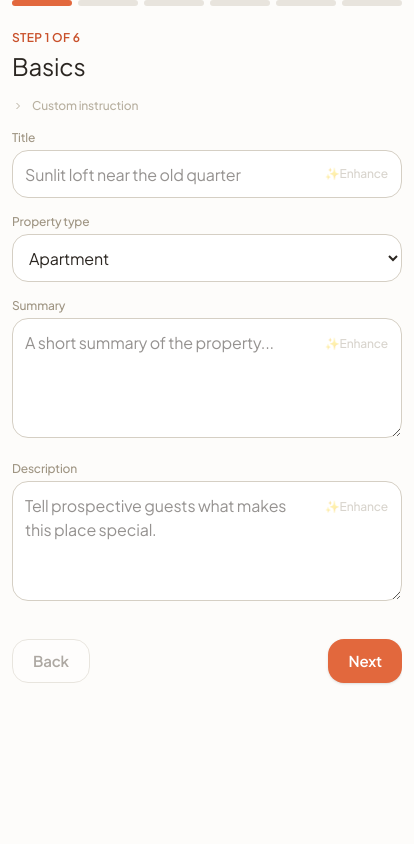
Test: PropertyForm › prevents advancing from step 1 when the title is empty
Click the button "Next" at (365, 661), box [328, 639, 402, 683]
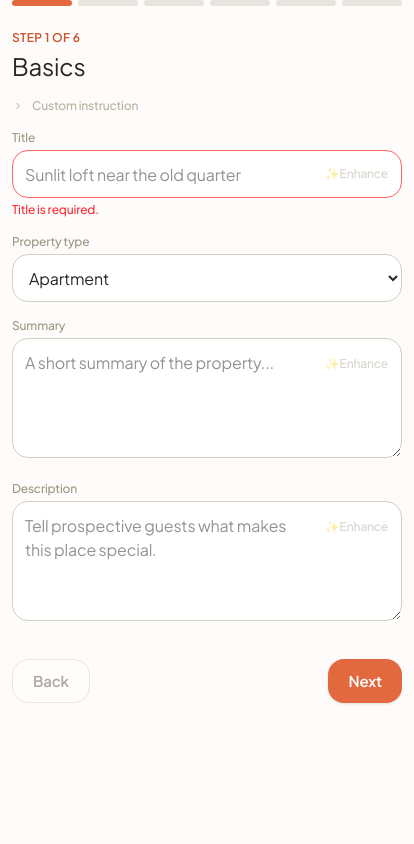
Expected: the heading "Basics" is shown, [12, 51, 86, 81]
Now the message shows "Title", box [12, 202, 99, 217]
